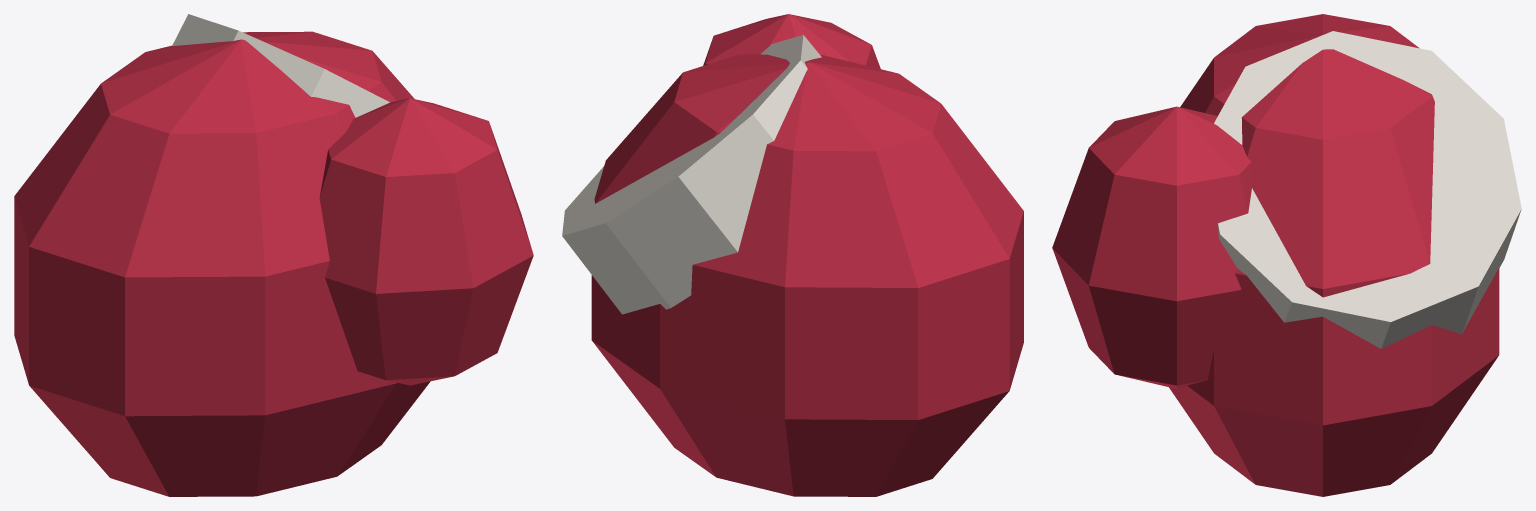
Rendered from boxing-glove-R.glb.
The picture shows the model from 3 angles, left to right: view 1: azimuth 30°, elevation 25°; view 2: azimuth 150°, elevation 25°; view 3: azimuth 270°, elevation 25°; orthographic projection. The views are drawn at different scales.
Parts seen in each view (by area): view 1: glove_R; view 2: glove_R; view 3: glove_R.
Boxes of the visible parts, left/top/right/bottom form: glove_R: left=14, top=14, right=533, bottom=496; glove_R: left=562, top=14, right=1023, bottom=496; glove_R: left=1052, top=14, right=1521, bottom=496.
Bounding box in the file's own units: 0.2523 × 0.2528 × 0.241.
